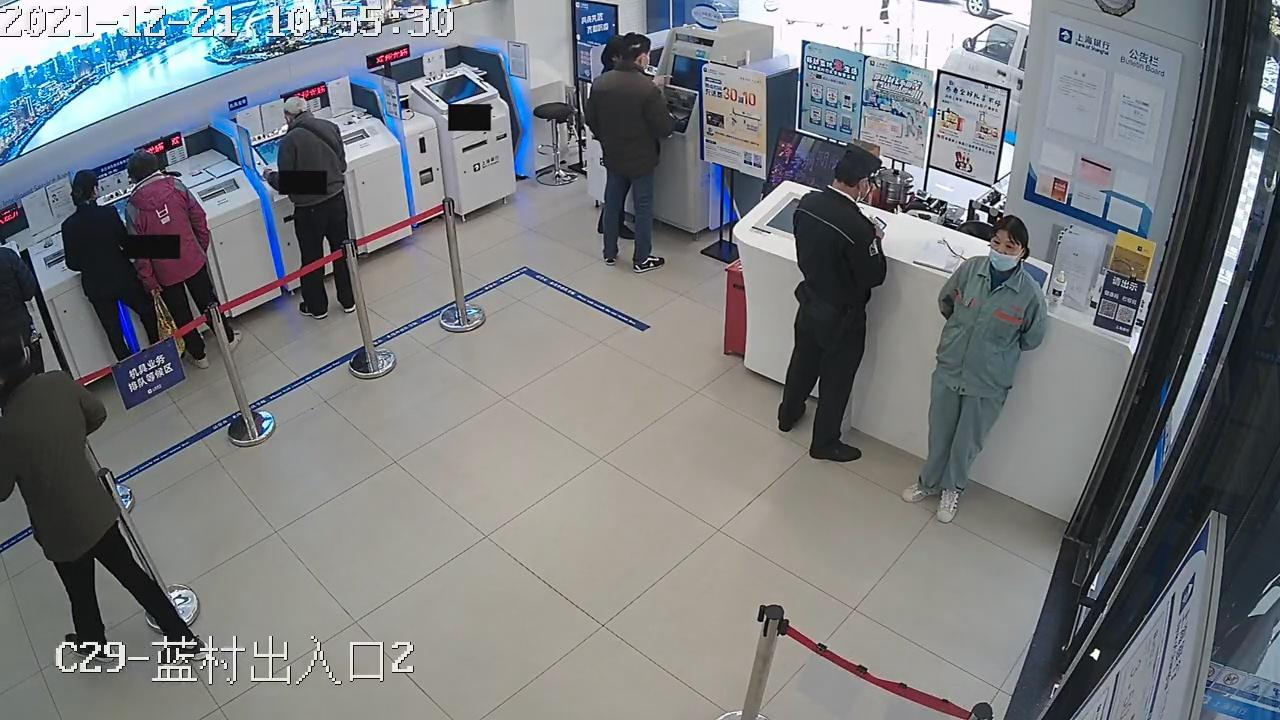person: (1, 330, 207, 662), (905, 217, 1049, 521), (776, 145, 889, 462), (122, 147, 236, 368), (586, 33, 679, 274), (60, 169, 162, 360), (273, 94, 357, 319), (0, 224, 48, 389)
